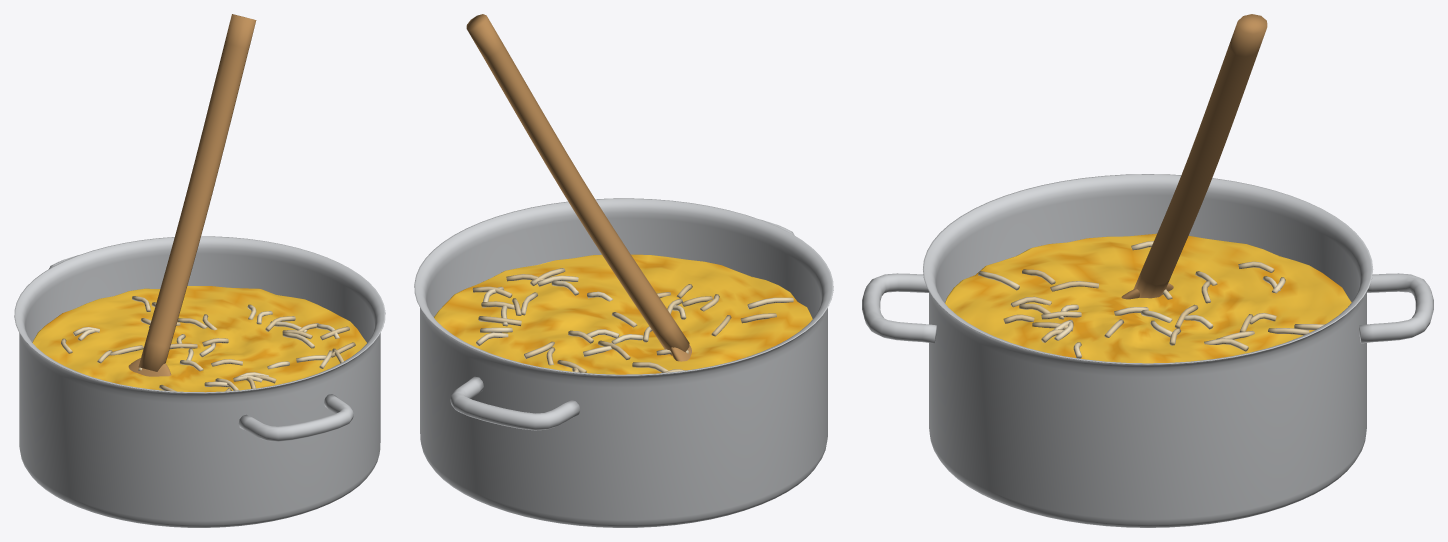
File: paso-4.glb
3 views of the same model, side by side, from view 1: azimuth 30°, elevation 25°; view 2: azimuth 150°, elevation 25°; view 3: azimuth 270°, elevation 25° (orthographic). The views are drawn at different scales.
Parts seen in each view (by area): view 1: paso-4-0, paso-4-3, paso-4-50, paso-4-2; view 2: paso-4-0, paso-4-3, paso-4-50, paso-4-1; view 3: paso-4-0, paso-4-3, paso-4-50, paso-4-1, paso-4-2.
Part boxes in pixels (x1=…): paso-4-0: x1=14, y1=236, x2=385, y2=527; paso-4-3: x1=32, y1=286, x2=366, y2=392; paso-4-50: x1=138, y1=14, x2=256, y2=371; paso-4-2: x1=238, y1=394, x2=353, y2=441; paso-4-0: x1=414, y1=198, x2=833, y2=527; paso-4-3: x1=434, y1=254, x2=812, y2=374; paso-4-50: x1=466, y1=14, x2=689, y2=355; paso-4-1: x1=450, y1=376, x2=580, y2=430; paso-4-0: x1=923, y1=174, x2=1372, y2=527; paso-4-3: x1=945, y1=233, x2=1351, y2=363; paso-4-50: x1=1134, y1=14, x2=1267, y2=298; paso-4-1: x1=1359, y1=273, x2=1433, y2=343; paso-4-2: x1=862, y1=273, x2=936, y2=343.
Size of the model in its own units: 0.1953 by 0.2259 by 0.248.
